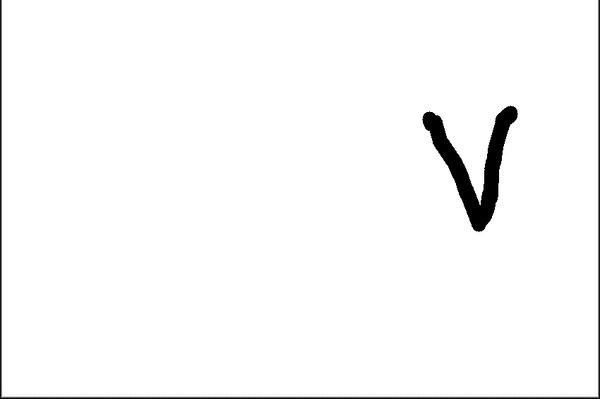V: (418, 95, 535, 236)
